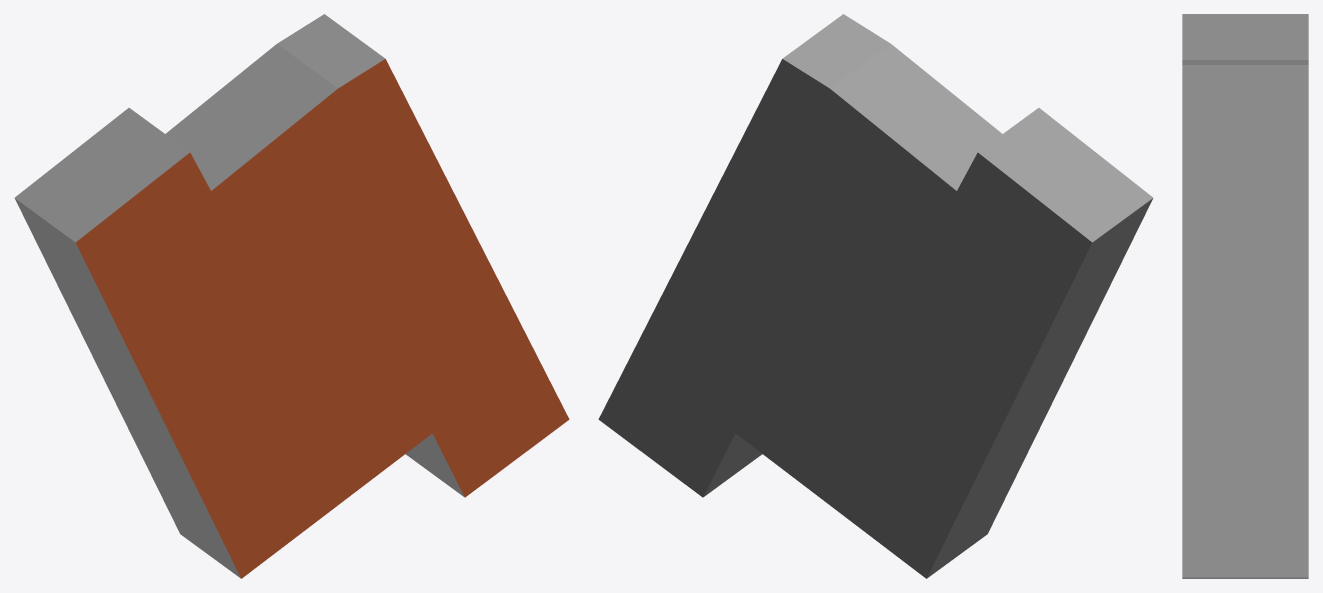
The model's file is construction_0257_assumed_A_Casa_h6m.obj.
The picture shows the model from 3 angles, left to right: view 1: azimuth 30°, elevation 25°; view 2: azimuth 150°, elevation 25°; view 3: azimuth 270°, elevation 25°; orthographic projection. The views are drawn at different scales.
Visible parts, largest first — view 1: construction_0257_assumed_A_Casa; view 2: construction_0257_assumed_A_Casa; view 3: construction_0257_assumed_A_Casa.
Boxes of the visible parts, x1,y1,x2,y2 form: construction_0257_assumed_A_Casa: (14,14,569,578); construction_0257_assumed_A_Casa: (598,14,1153,578); construction_0257_assumed_A_Casa: (1182,14,1308,578).
Bounding box in the file's own units: 27.98 × 26.25 × 6.
